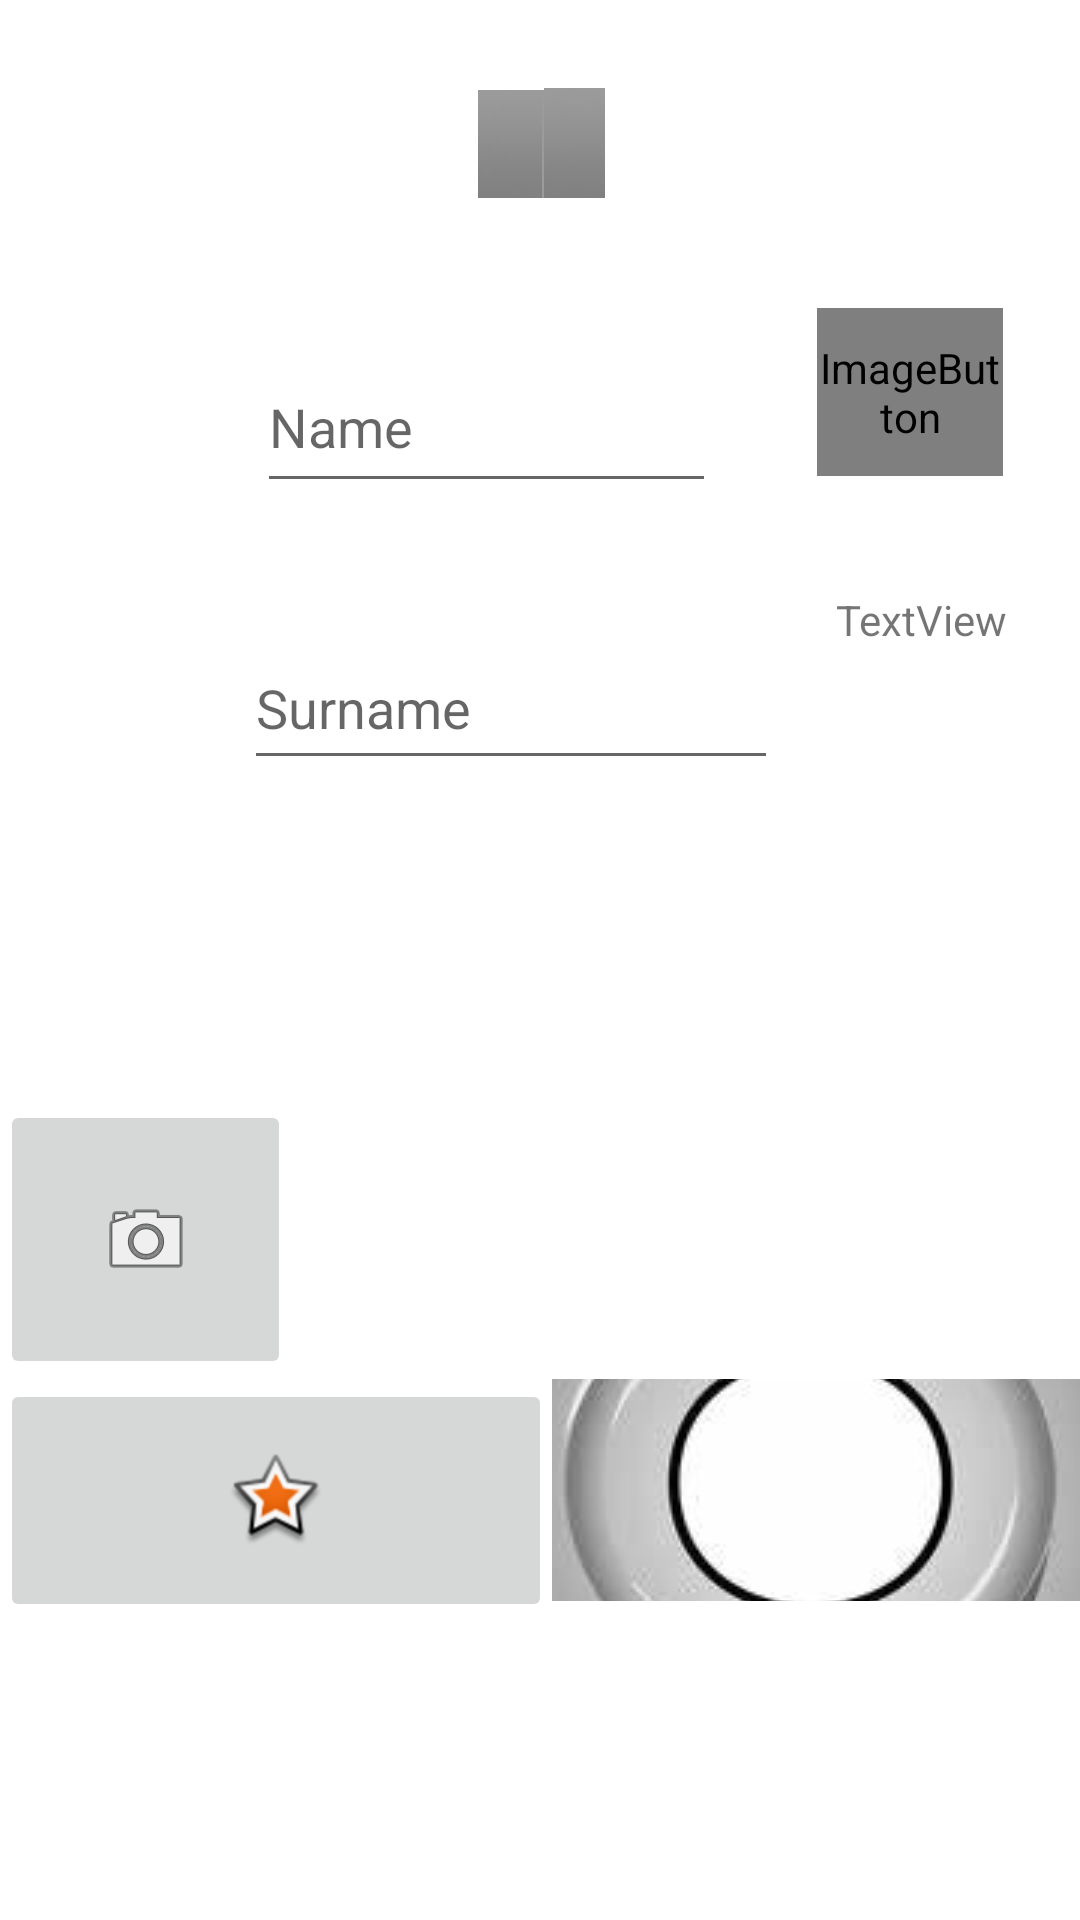

Screen size 1080*1920. Icon name, then its box in pixels as (x1, y1, x2, y2):
Put a picture: (12, 1118, 279, 1361)
